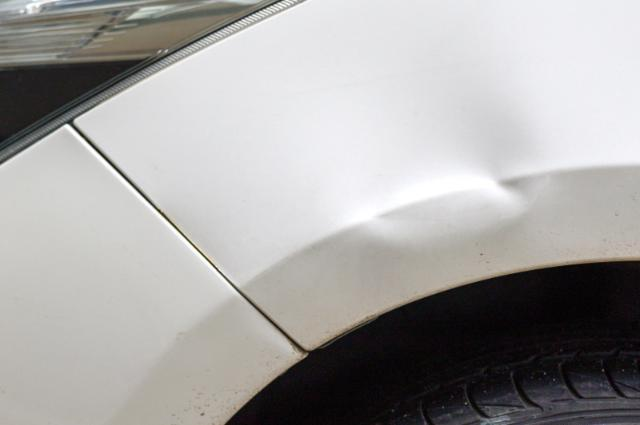Fender: (150, 52, 640, 301)
